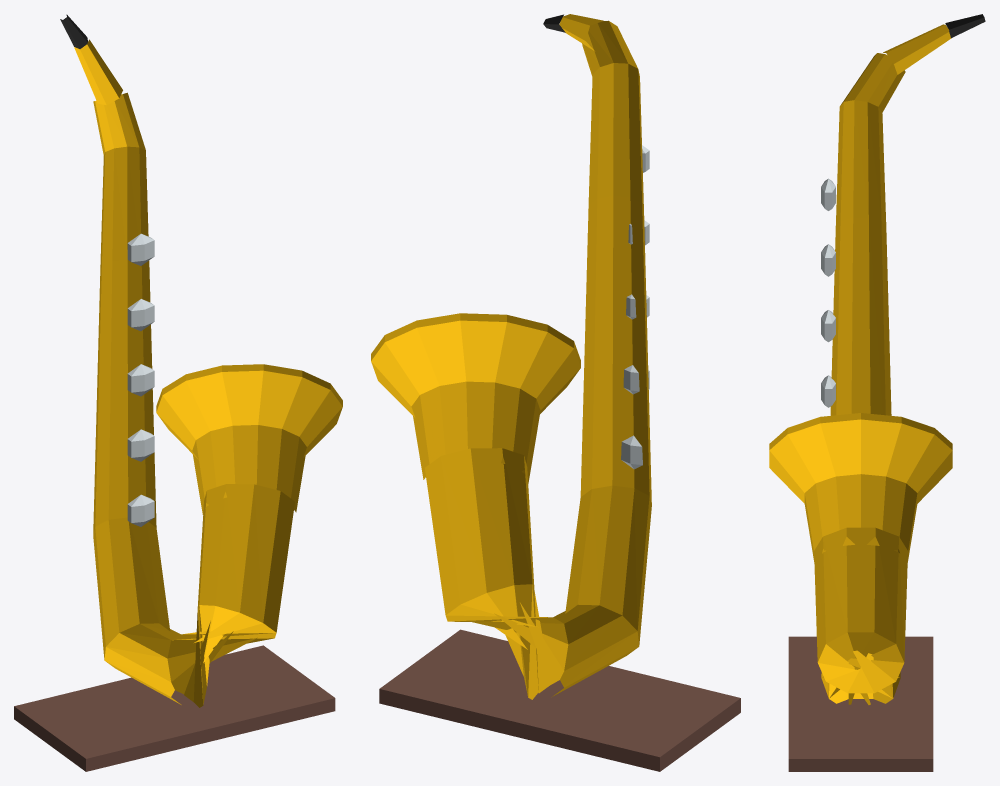
Rendered from saxofon.glb.
The picture shows the model from 3 angles, left to right: view 1: azimuth 30°, elevation 25°; view 2: azimuth 150°, elevation 25°; view 3: azimuth 270°, elevation 25°; orthographic projection. The views are drawn at different scales.
Visible parts, largest first — view 1: saxofon; view 2: saxofon; view 3: saxofon.
Boxes of the visible parts, x1=… form: saxofon: x1=14, y1=14, x2=342, y2=771; saxofon: x1=371, y1=14, x2=740, y2=771; saxofon: x1=769, y1=14, x2=985, y2=771.
Bounding box in the file's own units: 0.45 × 1.02 × 0.2989.
